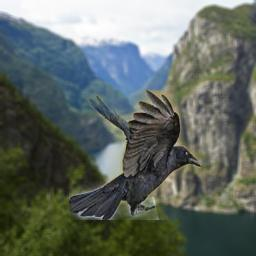Crow: (69, 90, 201, 220)
